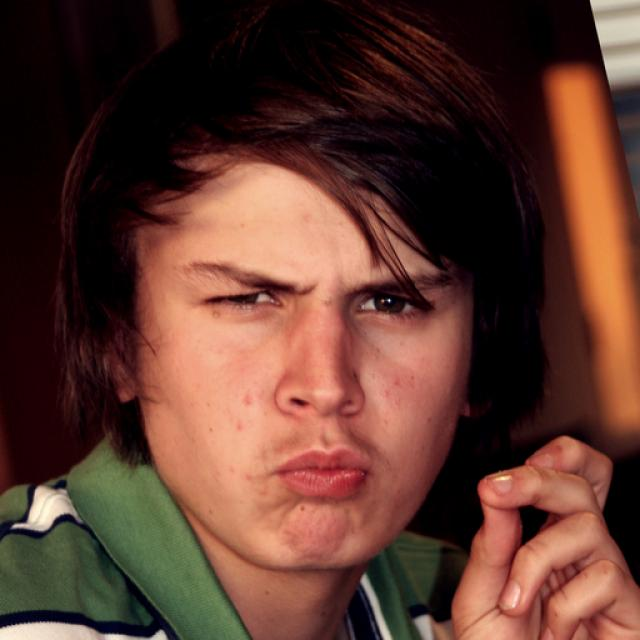Acne: (233, 389, 258, 412), (315, 292, 338, 310), (232, 419, 249, 436)
